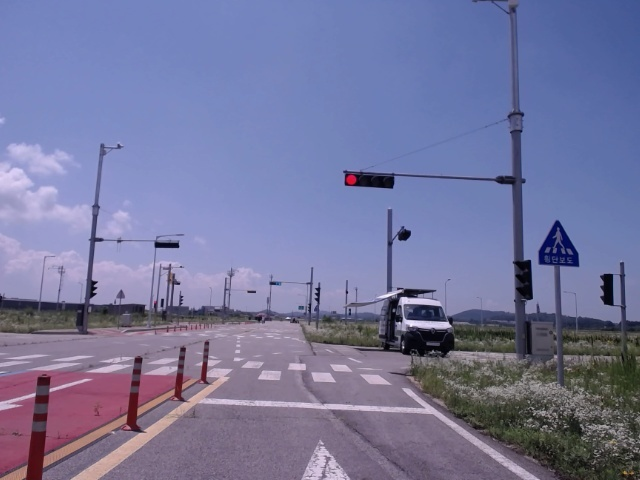red_4: (344, 173, 393, 188)
